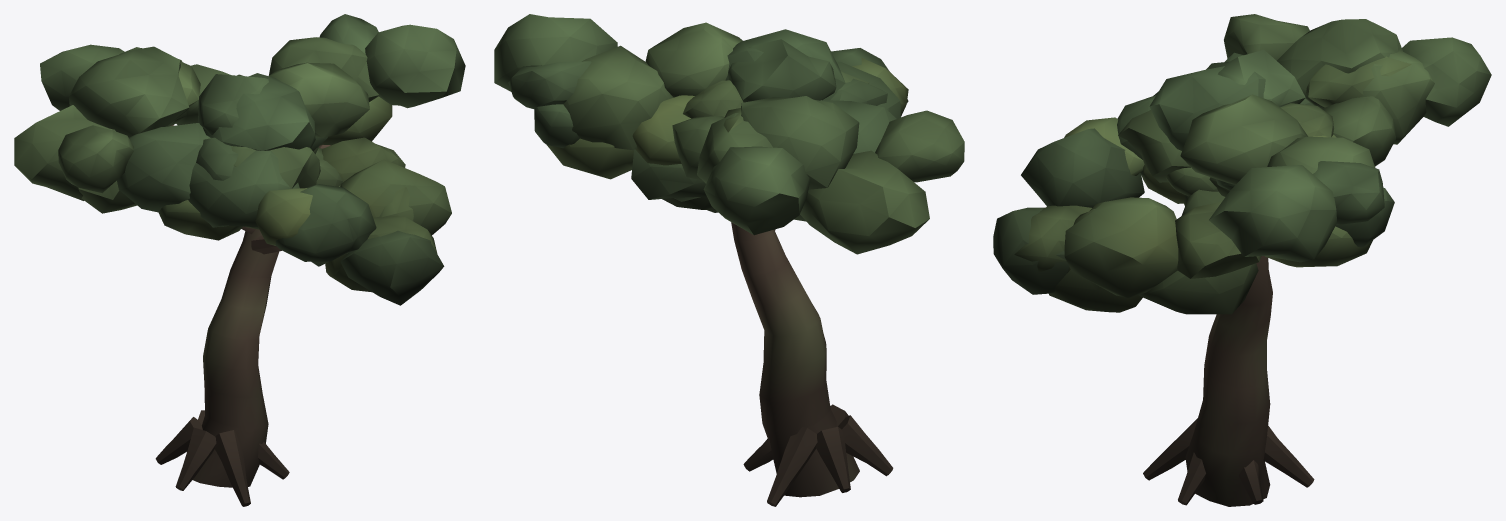
The model's file is ph_env_tree_old_oak.glb.
3 renders of one model, left to right at view 1: azimuth 30°, elevation 25°; view 2: azimuth 150°, elevation 25°; view 3: azimuth 270°, elevation 25°, orthographic. The views are drawn at different scales.
Visible parts, largest first — view 1: ph_env_tree_old_oak; view 2: ph_env_tree_old_oak; view 3: ph_env_tree_old_oak.
Part boxes in pixels (bbox=[...]): ph_env_tree_old_oak: bbox=[14, 14, 465, 506]; ph_env_tree_old_oak: bbox=[494, 14, 964, 506]; ph_env_tree_old_oak: bbox=[993, 14, 1491, 506].
Size of the model in its own units: 6.75 by 6.31 by 6.33.
